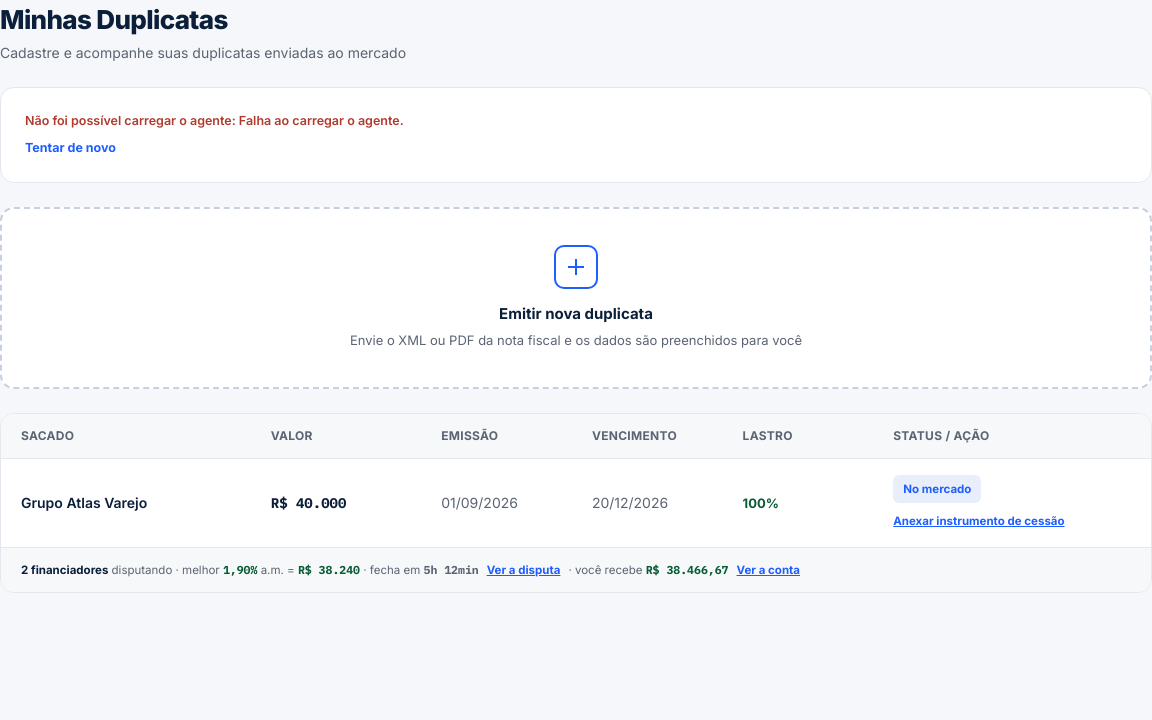
MinhasPage — o leilão da própria duplicata › diz quanto ENTRA no saldo da empresa (já sem a taxa) e abre a conta inteira
Check: the text "· você recebe R$ 38.466,67" is shown, box [568,560,728,580]
Check: the text "R$ 38.466,67" is shown, box [646,562,728,576]
Click the button "Ver a conta".
click(768, 570)  # box [736,560,800,580]
(page scrolled)
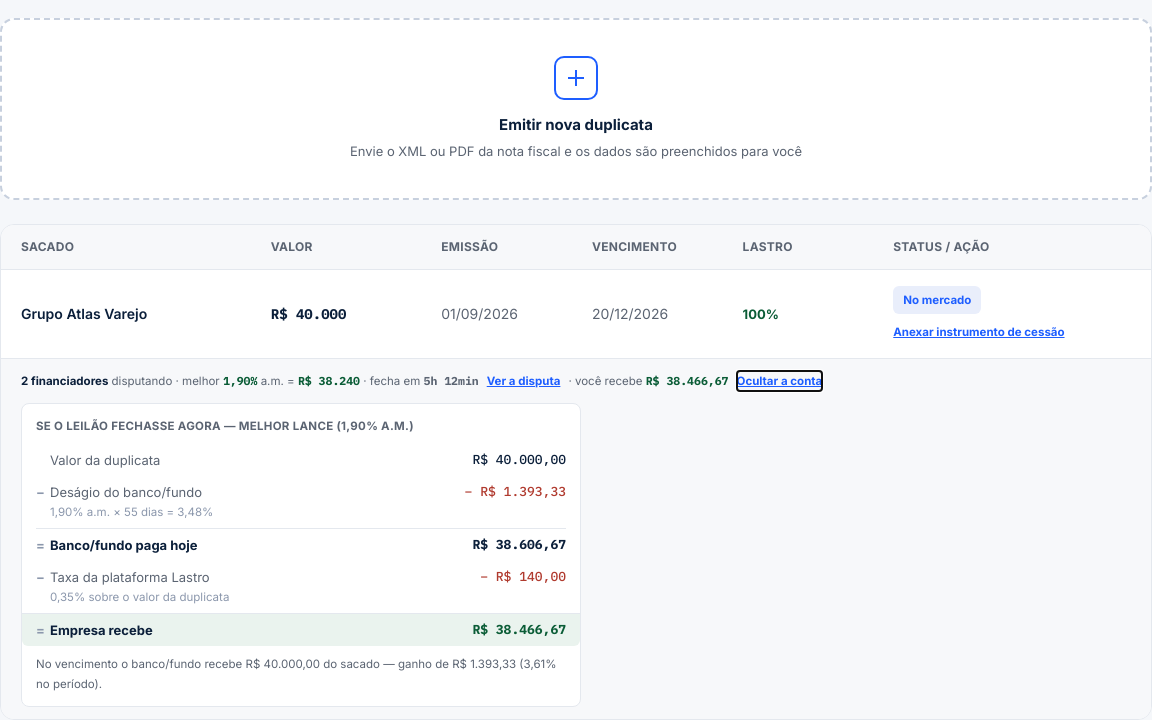
Check: the element with test id "demonstrativo" shows "Se o leilão fechasse agora — melhor lance (1,90% a.m.)", box [36,418,414,432]
Check: the element with test id "demonstrativo" shows "Taxa da plataforma Lastro", box [50,568,210,584]
Check: the element with test id "demonstrativo" shows "− R$ 140,00", box [480,568,566,584]
